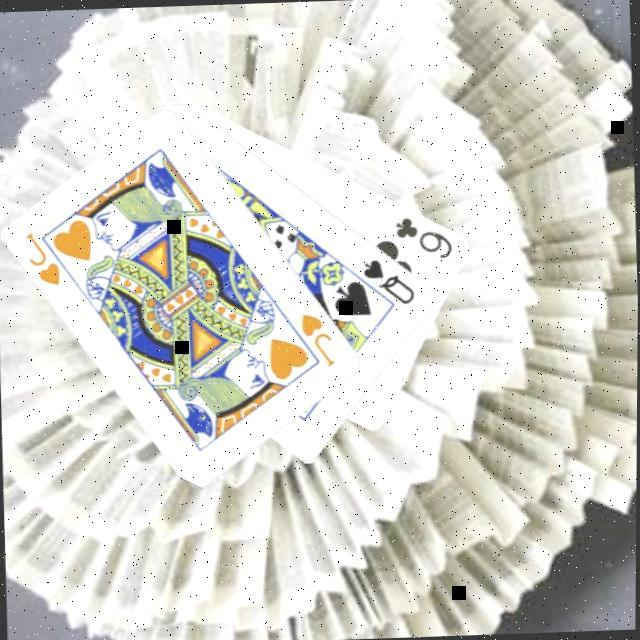6C: (392, 212, 458, 264)
JH: (23, 228, 66, 290), (298, 309, 340, 372)
QS: (360, 255, 420, 310)
